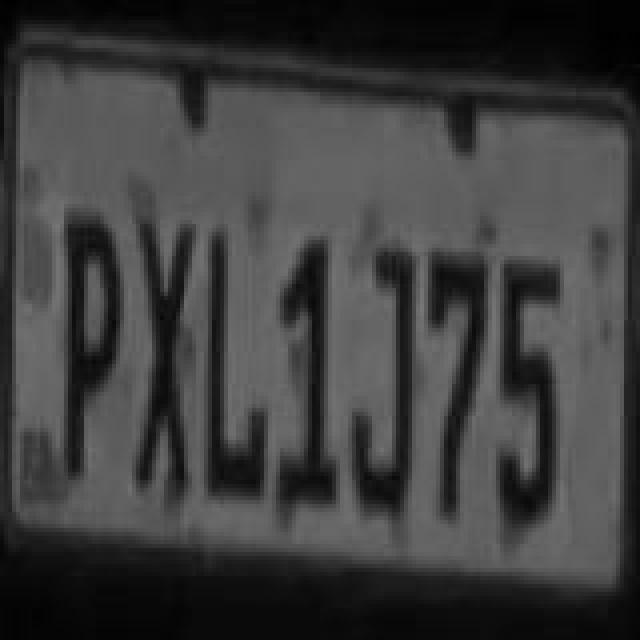1: (274, 238, 334, 514)
5: (494, 256, 562, 528)
7: (426, 246, 486, 522)
J: (352, 246, 416, 522)
L: (206, 234, 266, 502)
P: (62, 224, 122, 480)
X: (132, 214, 196, 498)
